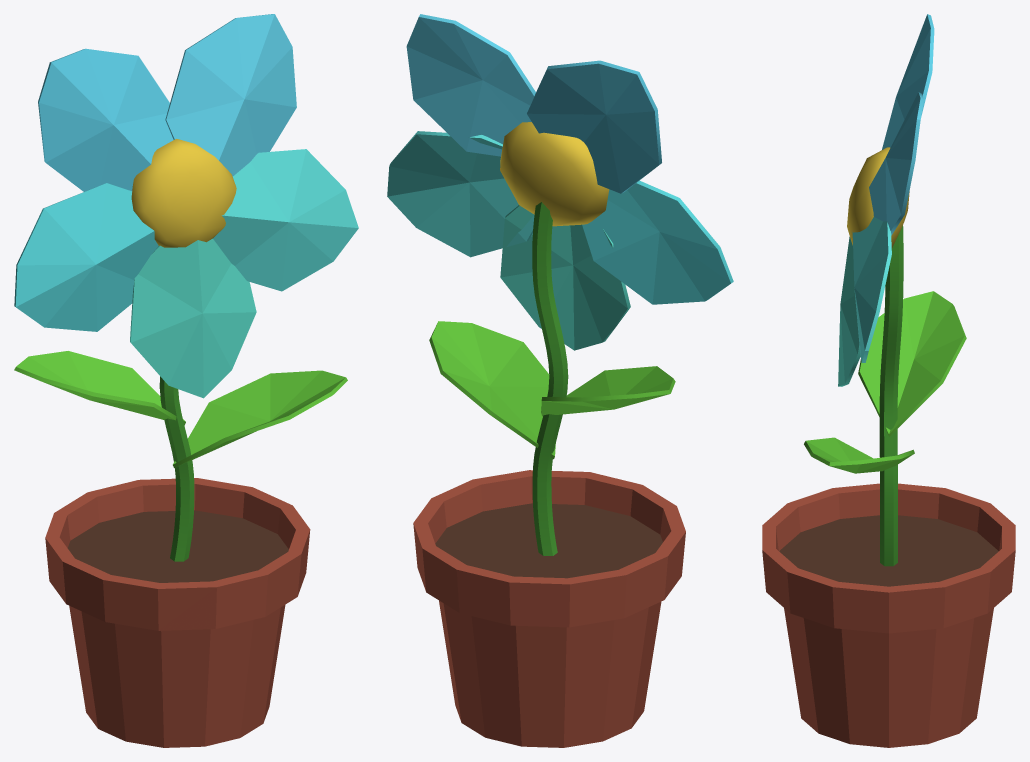
The model's file is Pot_L6.fbx.
3 renders of one model, left to right at view 1: azimuth 30°, elevation 25°; view 2: azimuth 150°, elevation 25°; view 3: azimuth 270°, elevation 25°, orthographic. The views are drawn at different scales.
Parts seen in each view (by area): view 1: L6_Pot, L6_Petal_007, L6_Petal_008, L6_Petal_009, L6_Petal_006, L6_Petal_010, L6_Soil, L6_Flower_Center001, L6_Leaf_R, L6_Leaf_L, L6_Stem; view 2: L6_Pot, L6_Petal_007, L6_Petal_009, L6_Soil, L6_Petal_010, L6_Petal_008, L6_Petal_006, L6_Leaf_R, L6_Flower_Center001, L6_Stem, L6_Leaf_L; view 3: L6_Pot, L6_Soil, L6_Leaf_L, L6_Stem, L6_Petal_010, L6_Petal_009, L6_Petal_008, L6_Petal_006, L6_Leaf_R, L6_Flower_Center001.
Boxes of the visible parts, left/top/right/bottom form: L6_Pot: left=45, top=478, right=310, bottom=747; L6_Petal_007: left=14, top=183, right=158, bottom=331; L6_Petal_008: left=38, top=48, right=173, bottom=191; L6_Petal_009: left=165, top=14, right=296, bottom=176; L6_Petal_006: left=130, top=238, right=256, bottom=398; L6_Petal_010: left=213, top=149, right=358, bottom=291; L6_Soil: left=67, top=510, right=288, bottom=582; L6_Flower_Center001: left=131, top=139, right=236, bottom=247; L6_Leaf_R: left=173, top=370, right=347, bottom=467; L6_Leaf_L: left=14, top=351, right=185, bottom=425; L6_Stem: left=159, top=376, right=194, bottom=561; L6_Pot: left=413, top=470, right=685, bottom=747; L6_Petal_007: left=582, top=180, right=733, bottom=304; L6_Petal_009: left=406, top=14, right=535, bottom=156; L6_Soil: left=435, top=503, right=662, bottom=578; L6_Petal_010: left=387, top=131, right=534, bottom=257; L6_Petal_008: left=526, top=60, right=661, bottom=193; L6_Petal_006: left=500, top=205, right=630, bottom=350; L6_Leaf_R: left=429, top=321, right=555, bottom=459; L6_Flower_Center001: left=500, top=122, right=609, bottom=226; L6_Stem: left=532, top=202, right=568, bottom=555; L6_Leaf_L: left=541, top=366, right=675, bottom=416; L6_Pot: left=762, top=483, right=1015, bottom=747; L6_Soil: left=779, top=515, right=998, bottom=586; L6_Leaf_L: left=858, top=291, right=966, bottom=436; L6_Stem: left=879, top=225, right=903, bottom=566; L6_Petal_010: left=852, top=217, right=891, bottom=362; L6_Petal_009: left=869, top=92, right=923, bottom=235; L6_Petal_008: left=882, top=14, right=934, bottom=149; L6_Petal_006: left=838, top=236, right=860, bottom=386; L6_Leaf_R: left=804, top=437, right=914, bottom=473; L6_Flower_Center001: left=847, top=147, right=909, bottom=248.
Bounding box in the file's own units: 38.33 × 71.5 × 25.35.
